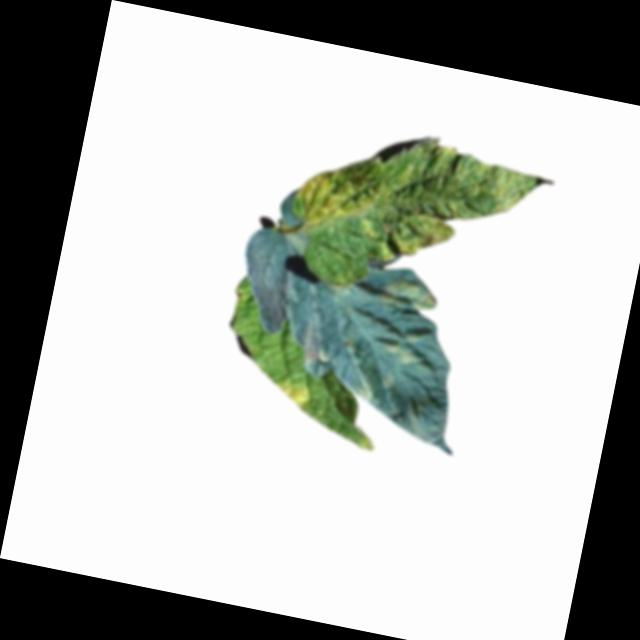Leaf_Mold: (285, 114, 544, 290), (379, 275, 442, 319), (374, 322, 429, 367), (265, 374, 313, 412), (297, 325, 334, 367)
